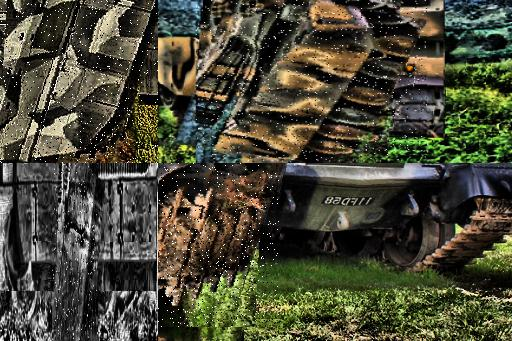tanks: (197, 1, 428, 163), (167, 164, 512, 271), (1, 1, 158, 164), (159, 164, 280, 302), (53, 164, 98, 341)
